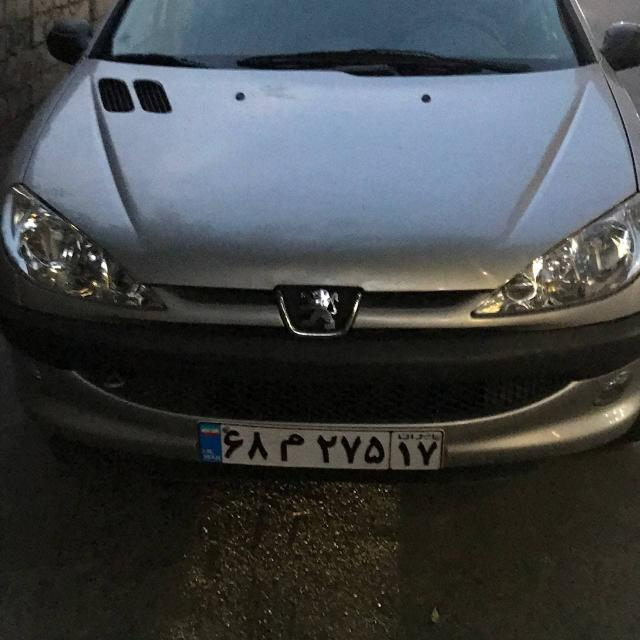Plates: (197, 422, 444, 470)
